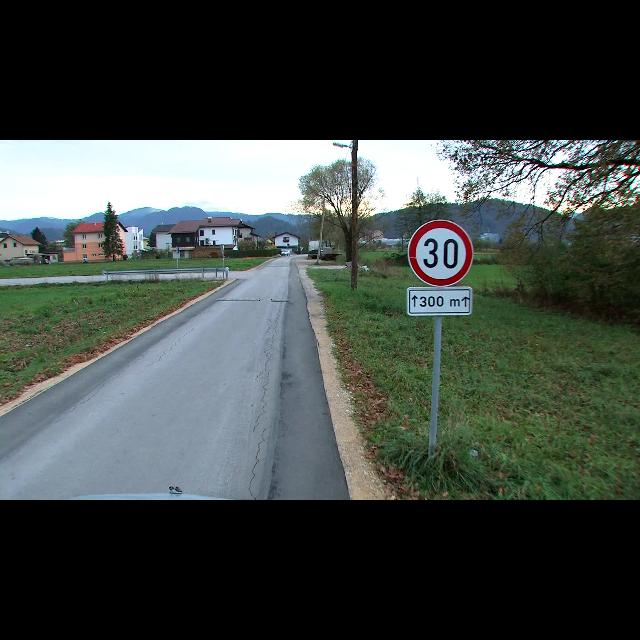Rectangle: (407, 286, 471, 314)
Round: (408, 221, 474, 287)
